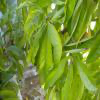Peach leaf: (75, 1, 97, 46), (44, 55, 70, 93), (25, 24, 46, 68), (39, 27, 53, 88), (46, 20, 62, 72), (75, 55, 97, 92), (21, 8, 41, 47), (62, 60, 74, 99), (26, 23, 40, 48)
